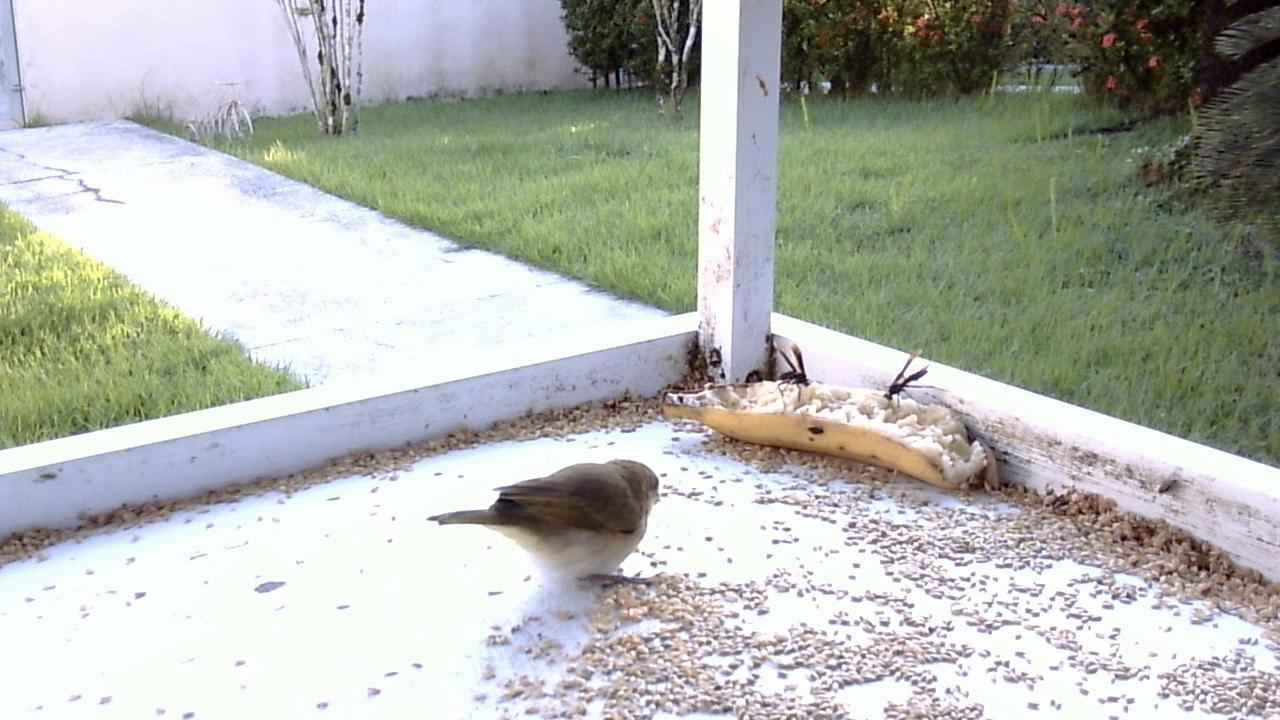canario_do_amazonas: (419, 453, 666, 606)
